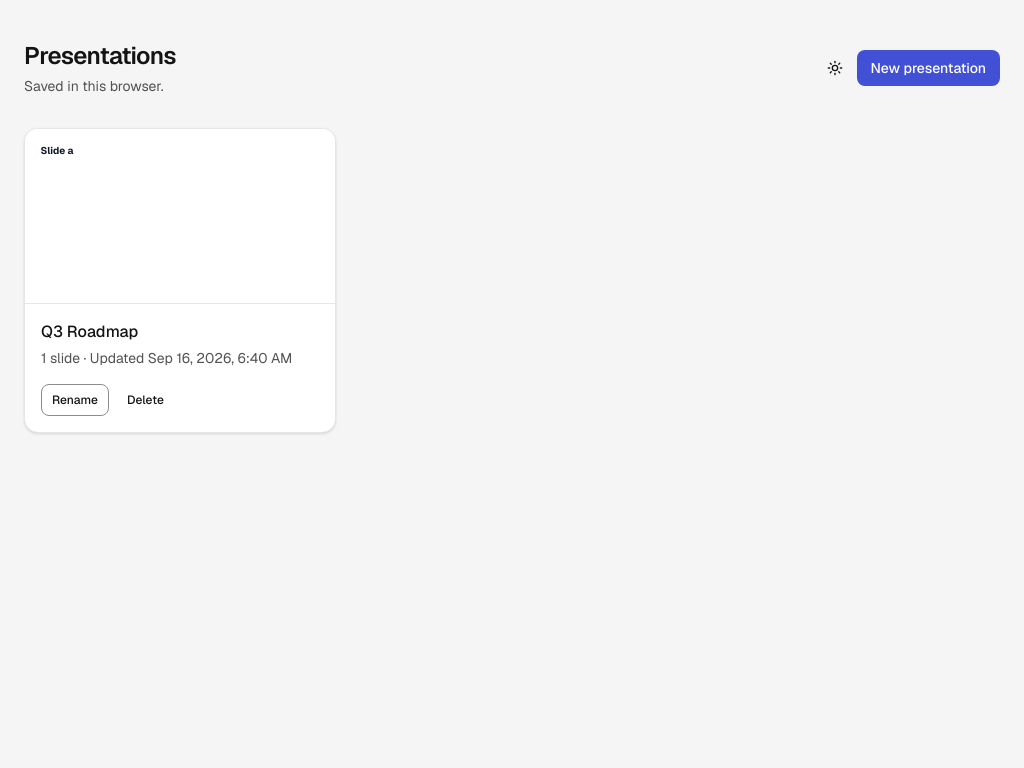
Scenario: DeckDashboard › deletes a presentation only after confirmation
Click the button with aria-label "Delete Q3 Roadmap": coordinates (145, 400) [117,384,174,416]
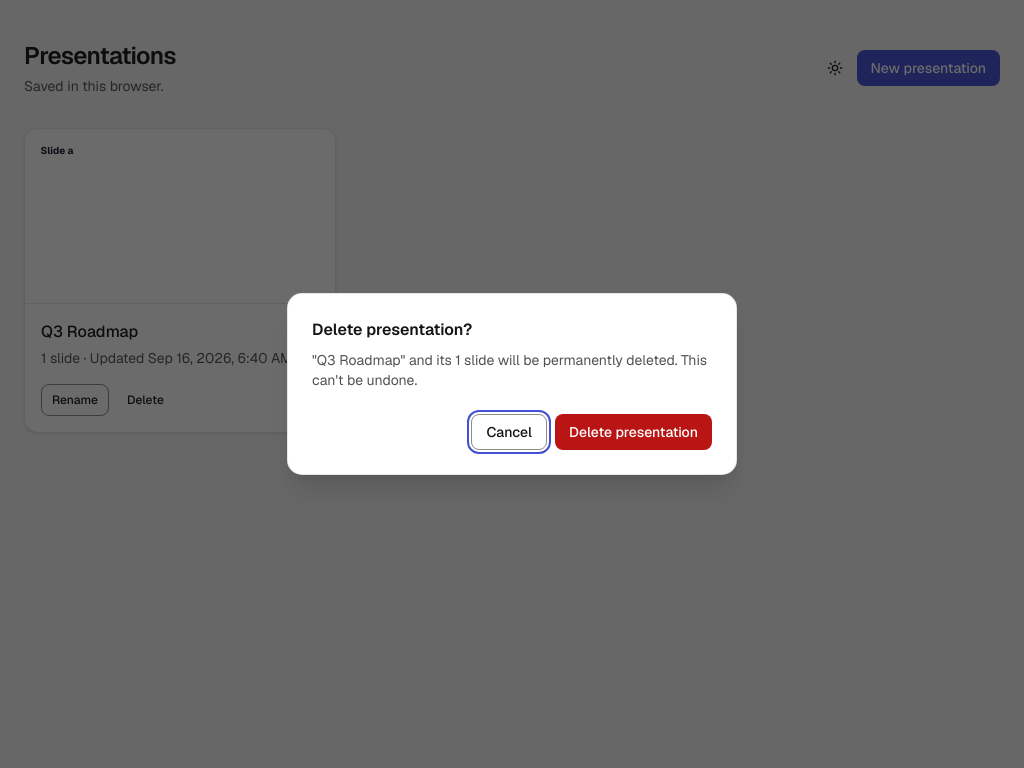
Click the button "Cancel": coordinates (509, 432) [472,414,547,450]
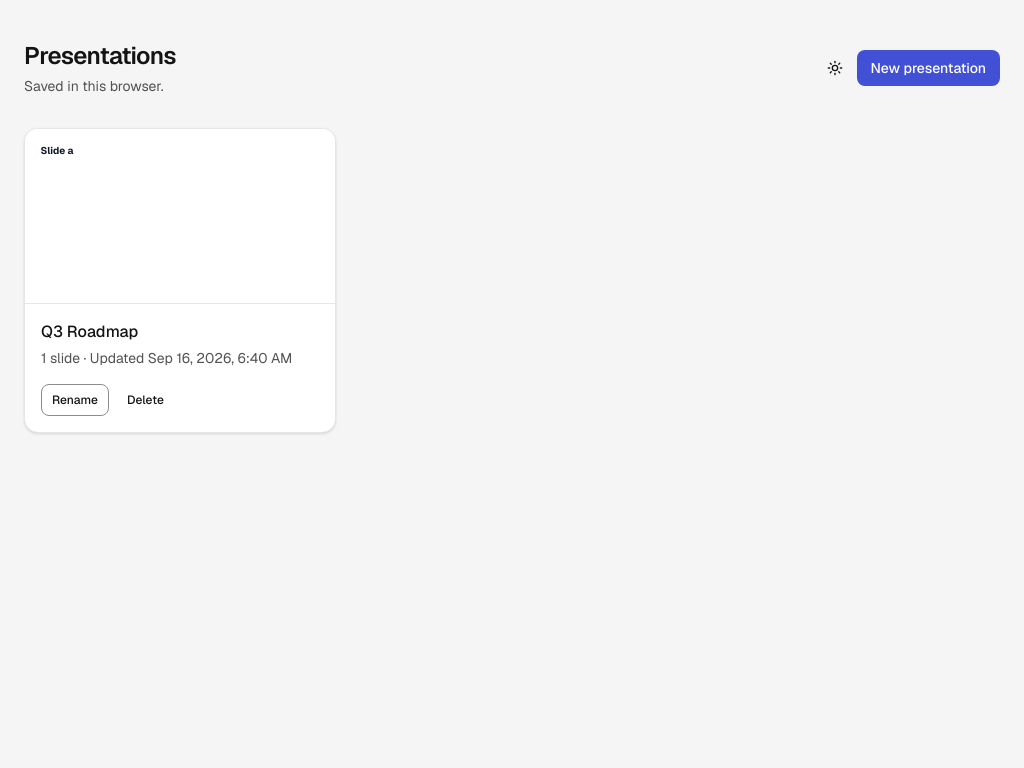
Check: the link "Q3 Roadmap" is shown, box [41,321,138,342]
Click the button with aria-label "Delete Q3 Roadmap": coordinates (145, 400) [117,384,174,416]
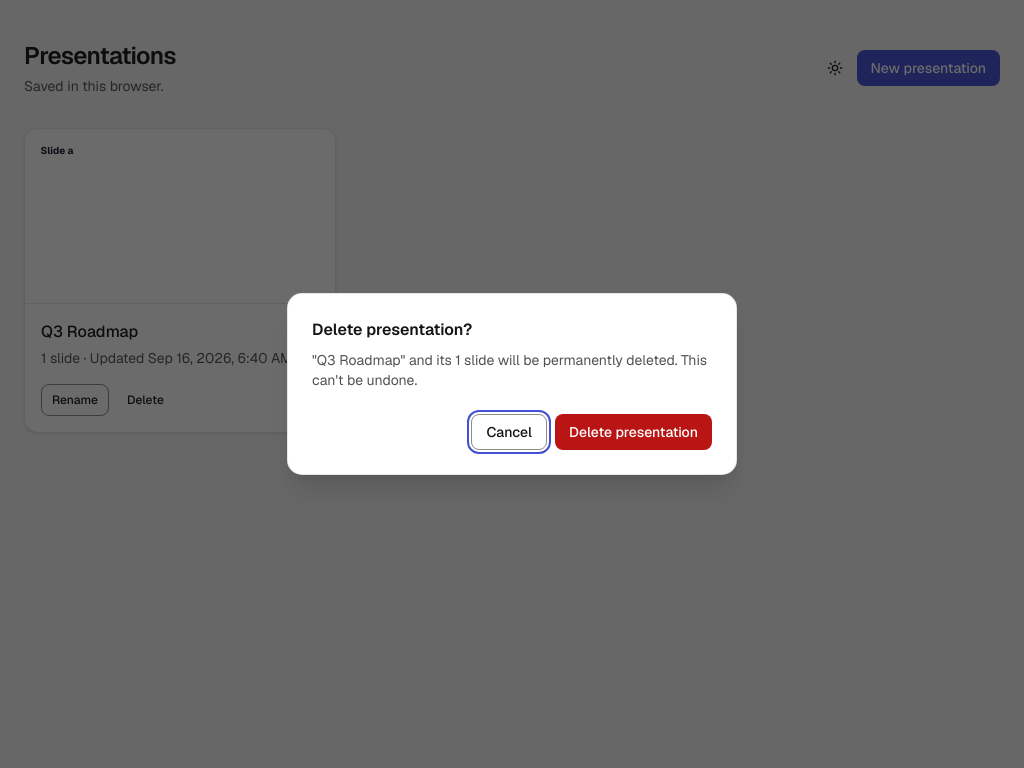
Click the button "Delete presentation": coordinates (634, 432) [555,414,712,450]
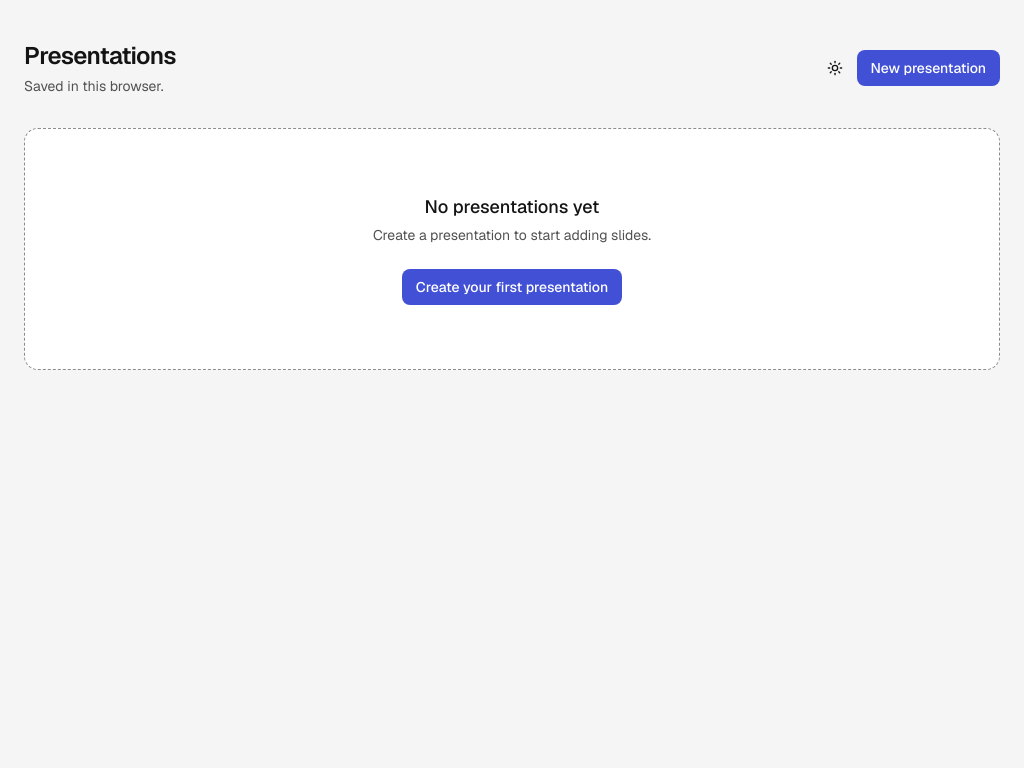
Check: the heading "No presentations yet" is shown, box [425,195,599,218]
